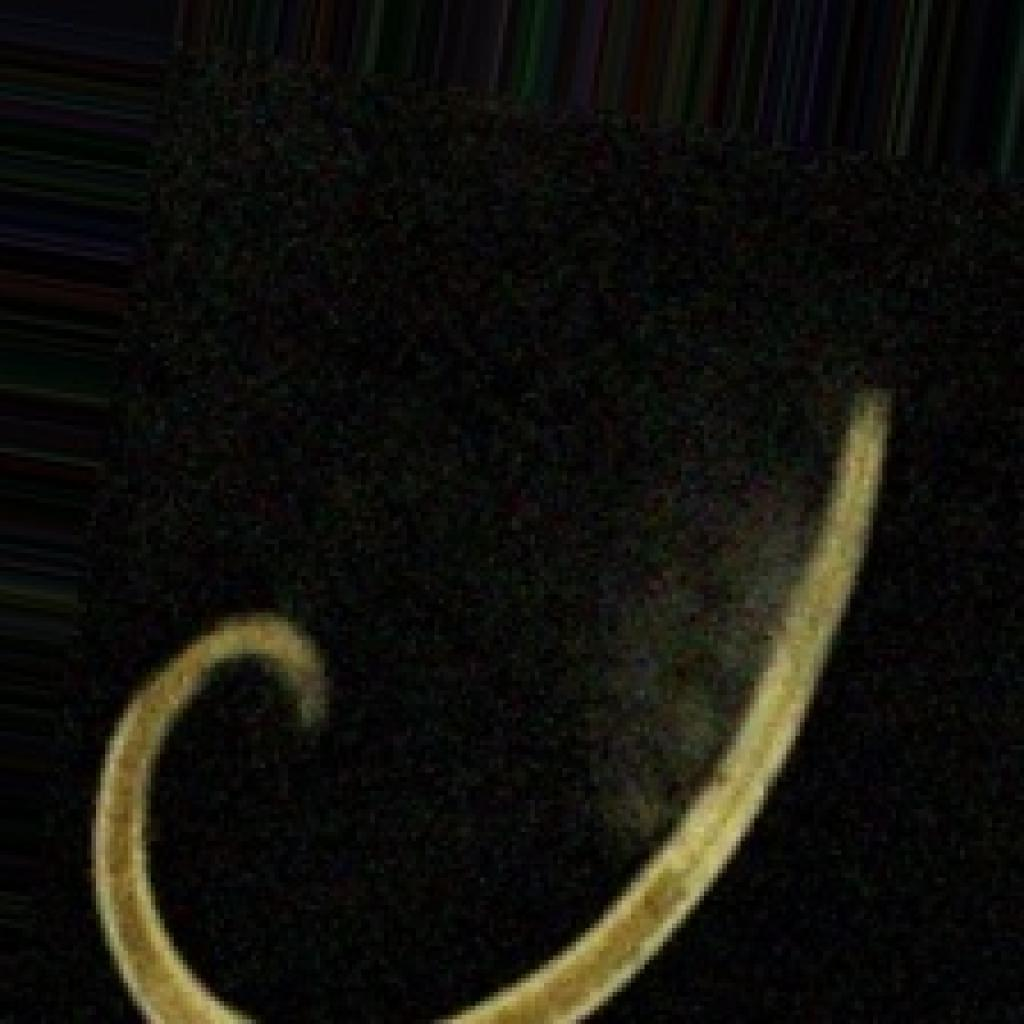Nematode: (60, 46, 1020, 1019)
